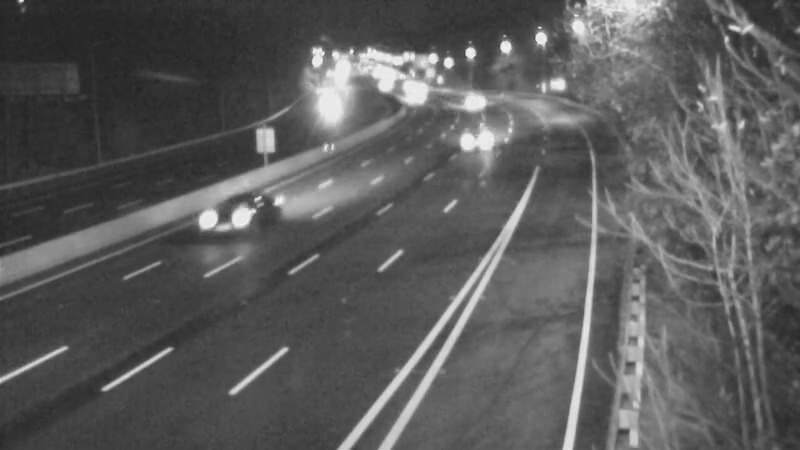vehicle: (185, 175, 265, 255), (363, 59, 413, 109), (393, 64, 443, 114), (442, 73, 492, 123), (383, 74, 433, 124), (454, 106, 504, 156), (292, 77, 342, 127)
